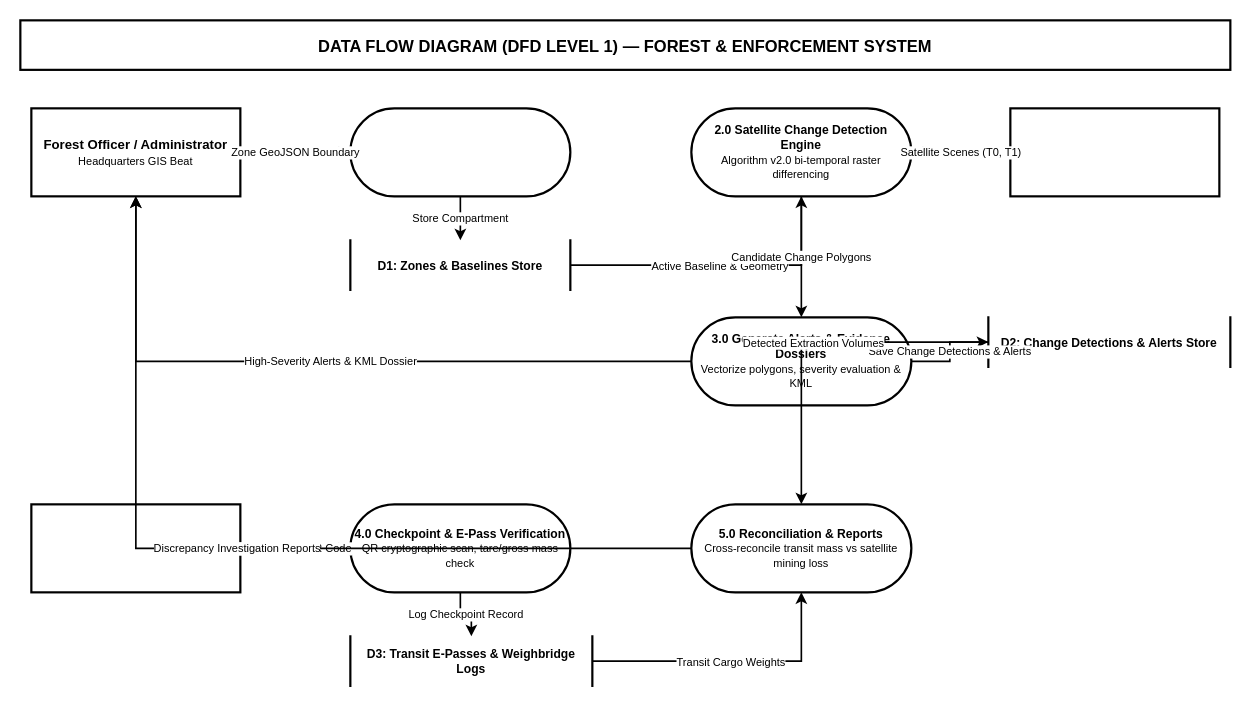
Some shapes in this 1250 by 705 pixel diagram are drawn without their labels. Each missing label, with the centre of its shape:
"1.0 Manage Zones & Baselines Define reserve compartments, buffers & baselines" goes at pixel 460 152.
"Checkpoint Officer Roadside Enforcement Beat" goes at pixel 135 548.
"Satellite Data Provider GEE / Sentinel-2 / Landsat-8" goes at pixel 1114 152.
